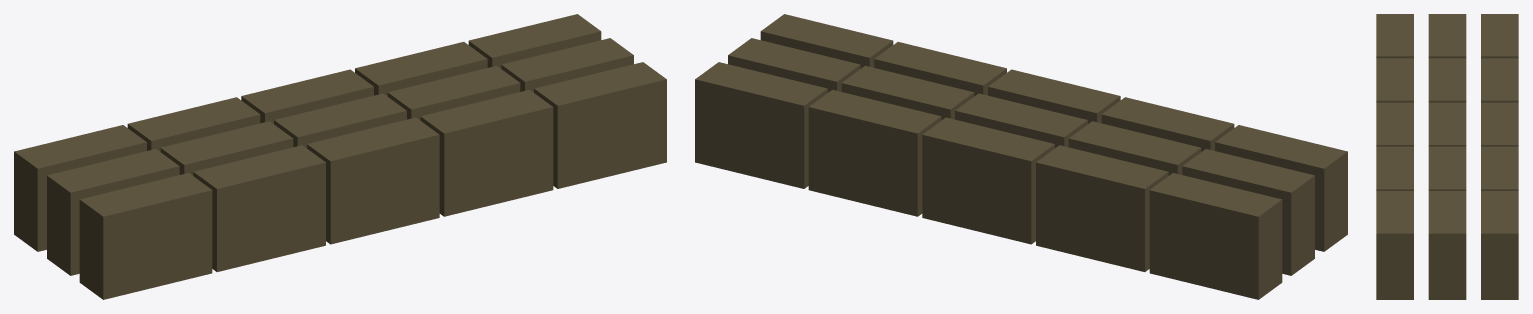
File: sandbag_wall.obj
3 views of the same model, side by side, from view 1: azimuth 30°, elevation 25°; view 2: azimuth 150°, elevation 25°; view 3: azimuth 270°, elevation 25° (orthographic). The views are drawn at different scales.
Bounding box in the file's own units: 2.48 × 0.35 × 0.68.
